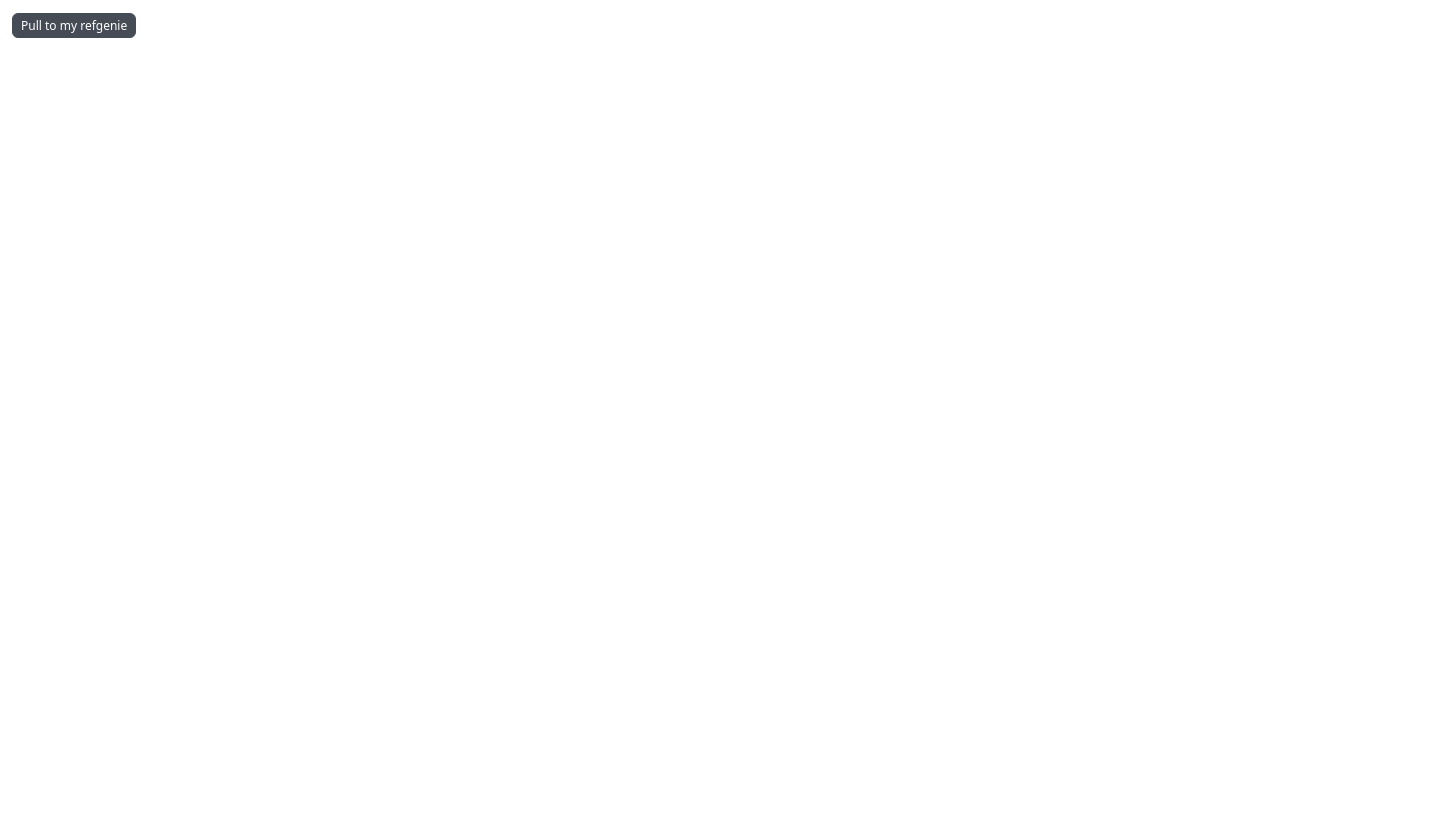
Test: BridgePullButton › submits force:false with the action header, then polls to success
Later steps or results of the test are not shown.
Click the button "Pull to my refgenie" at [74, 26], box [12, 13, 136, 38]
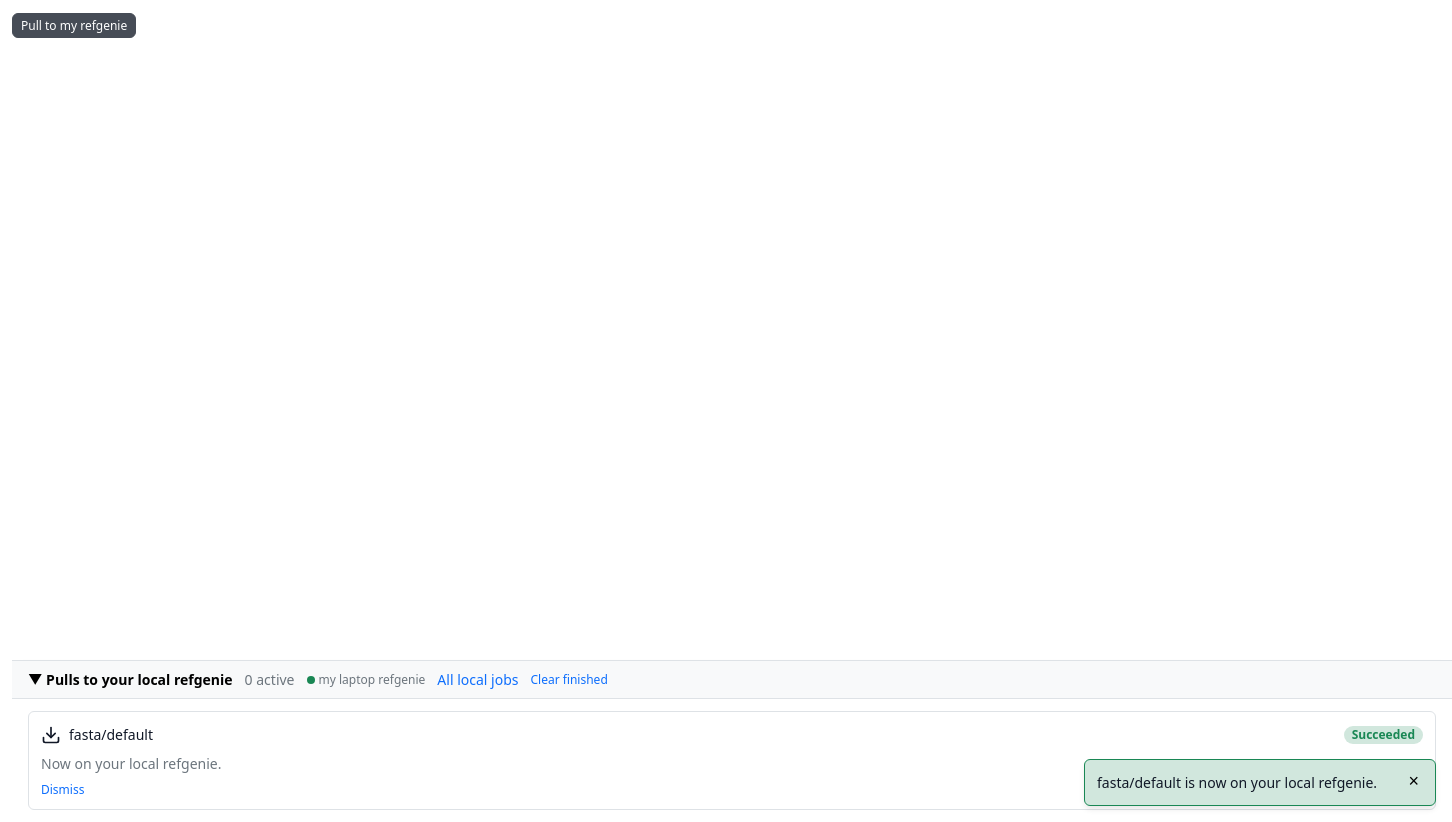
Now the text "Now on your local refgenie." is shown, box [41, 754, 222, 773]
